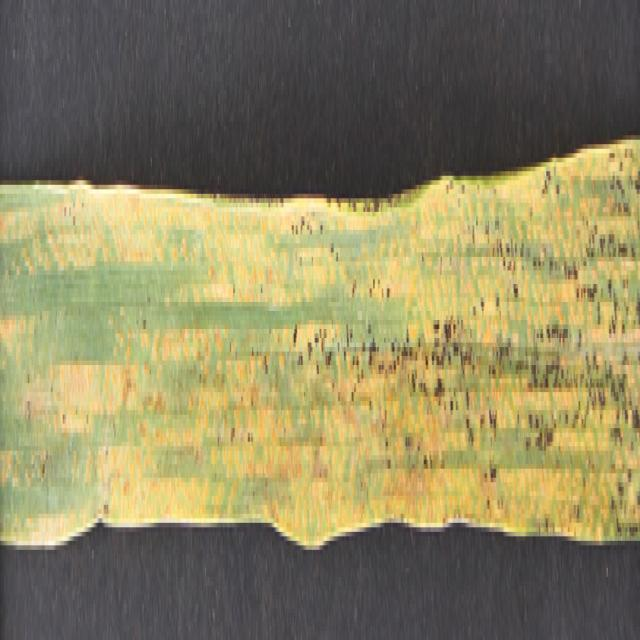leaf rust: (2, 127, 640, 546)
